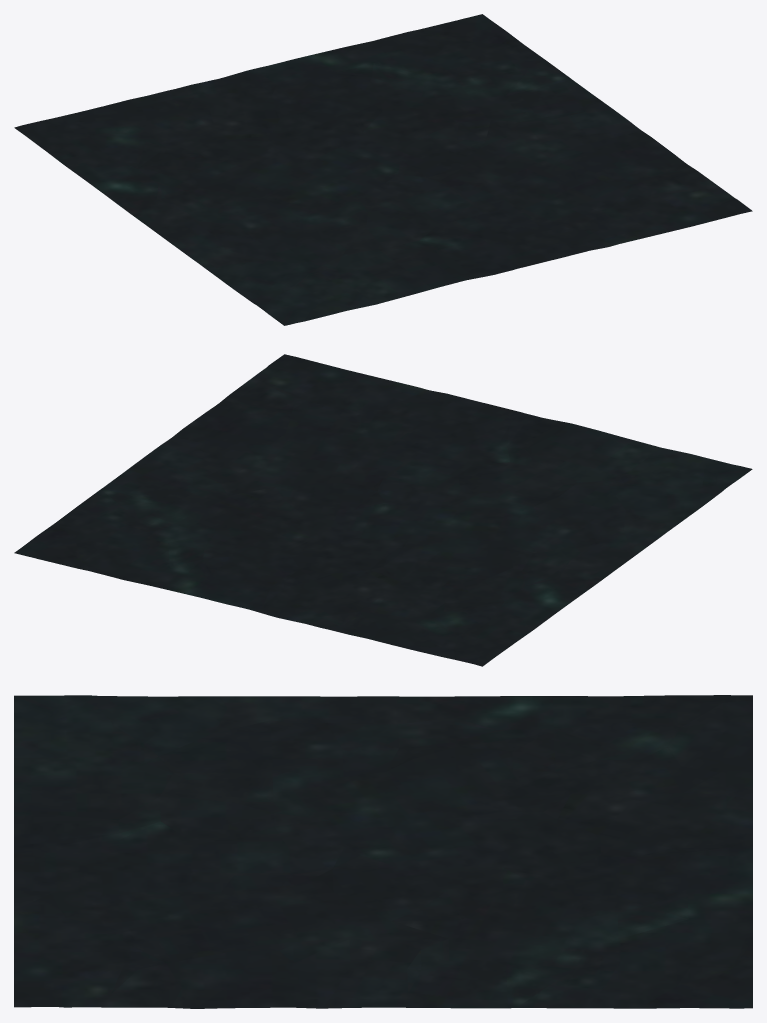
3 views of the same model, one above another, from view 1: azimuth 30°, elevation 25°; view 2: azimuth 150°, elevation 25°; view 3: azimuth 270°, elevation 25° (orthographic). The views are drawn at different scales.
Size of the model in its own units: 52.22 by 0.2801 by 52.22.
Materials: 2 (2 with a texture image).
